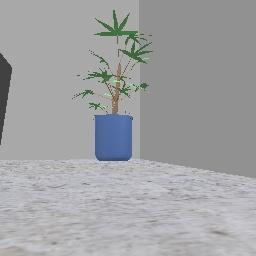planta: (73, 10, 152, 160)
